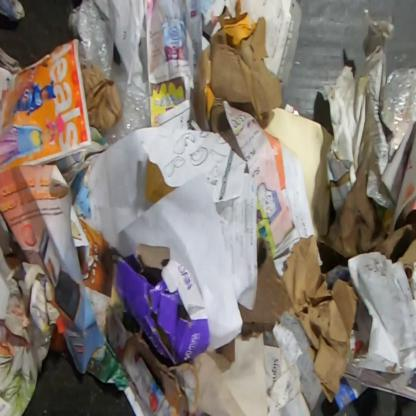cardboard: (323, 96, 415, 291), (98, 242, 210, 367), (280, 235, 359, 404), (208, 15, 283, 161), (123, 327, 200, 416), (238, 236, 296, 337), (81, 64, 123, 135), (87, 331, 130, 392), (193, 42, 212, 132), (144, 159, 177, 204), (0, 0, 27, 24), (216, 338, 234, 362)
soft_plastic: (67, 0, 150, 146), (377, 64, 415, 163)
